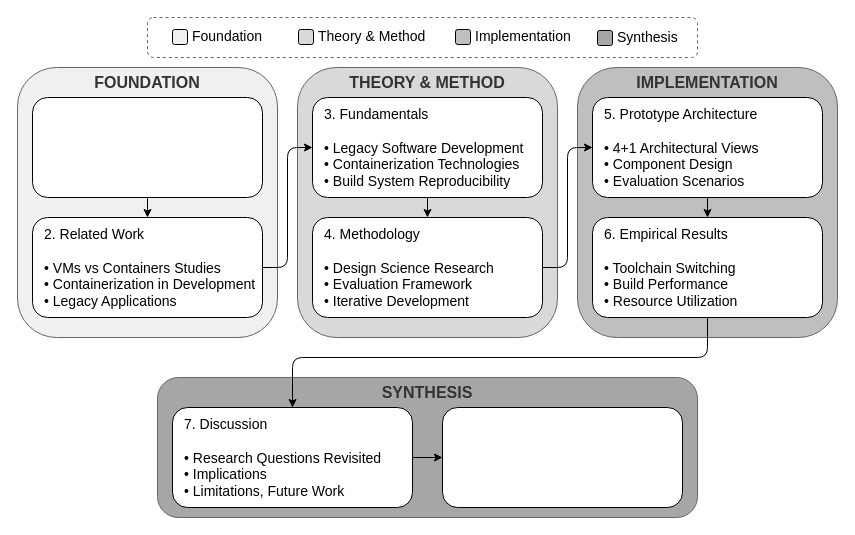
The diagram is 855 pixels wide and 535 high, and some of its shapes have lost their labels. Here are the shapes that lost their labels. From the top down, the centre of each, then its label:
the point at 147,147: 1. Introduction • Problem Statement • Research Questions • Methodology (DSRM)
the point at 562,457: 8. Conclusion • Key Findings • Contributions
